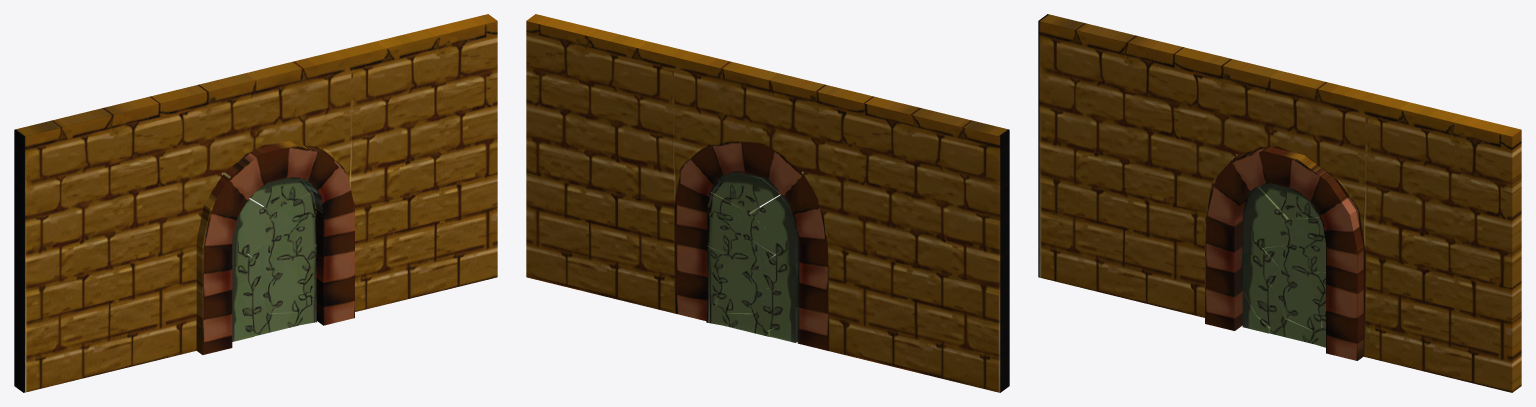
Rendered from Mosaic.glb.
The picture shows the model from 3 angles, left to right: view 1: azimuth 30°, elevation 25°; view 2: azimuth 150°, elevation 25°; view 3: azimuth 330°, elevation 25°; orthographic projection.
Parts seen in each view (by area): view 1: Mosaic; view 2: Mosaic; view 3: Mosaic.
Boxes of the visible parts, x1,y1,x2,y2 form: Mosaic: [14, 14, 497, 392]; Mosaic: [526, 14, 1009, 392]; Mosaic: [1038, 14, 1521, 392].
Bounding box in the file's own units: 486 × 252 × 28.16.
Materials: 1 (1 with a texture image).
